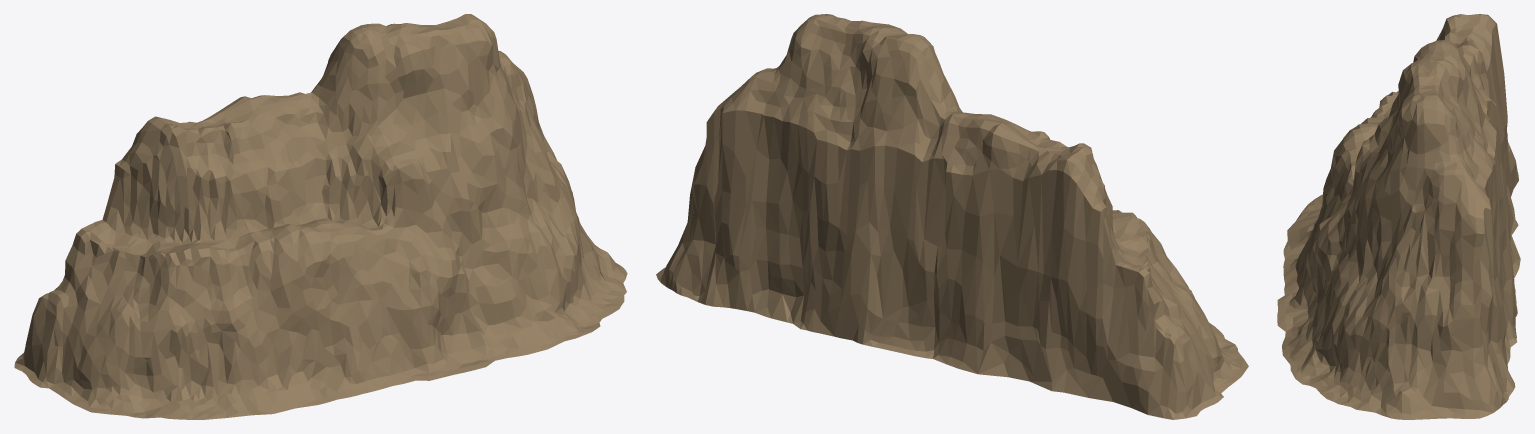
The model's file is Cliff02.fbx.
3 renders of one model, left to right at view 1: azimuth 30°, elevation 25°; view 2: azimuth 150°, elevation 25°; view 3: azimuth 270°, elevation 25°, orthographic. The views are drawn at different scales.
Visible parts, largest first — view 1: Cliff02; view 2: Cliff02; view 3: Cliff02.
Part boxes in pixels (<box>): Cliff02: <box>14,14,627,419</box>; Cliff02: <box>656,14,1248,419</box>; Cliff02: <box>1277,14,1520,419</box>.
Bounding box in the file's own units: 157 × 76.43 × 62.68.
